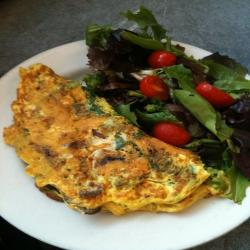omelette: (10, 82, 201, 220)
salad: (105, 37, 246, 151)
